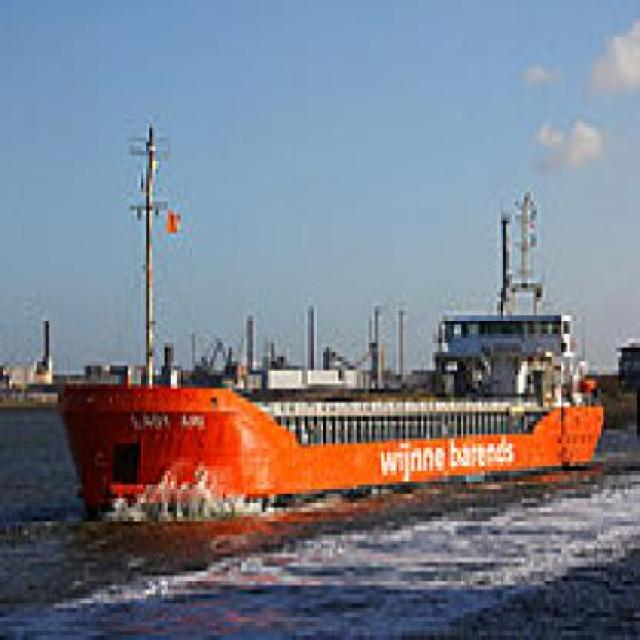container: (43, 170, 614, 527)
